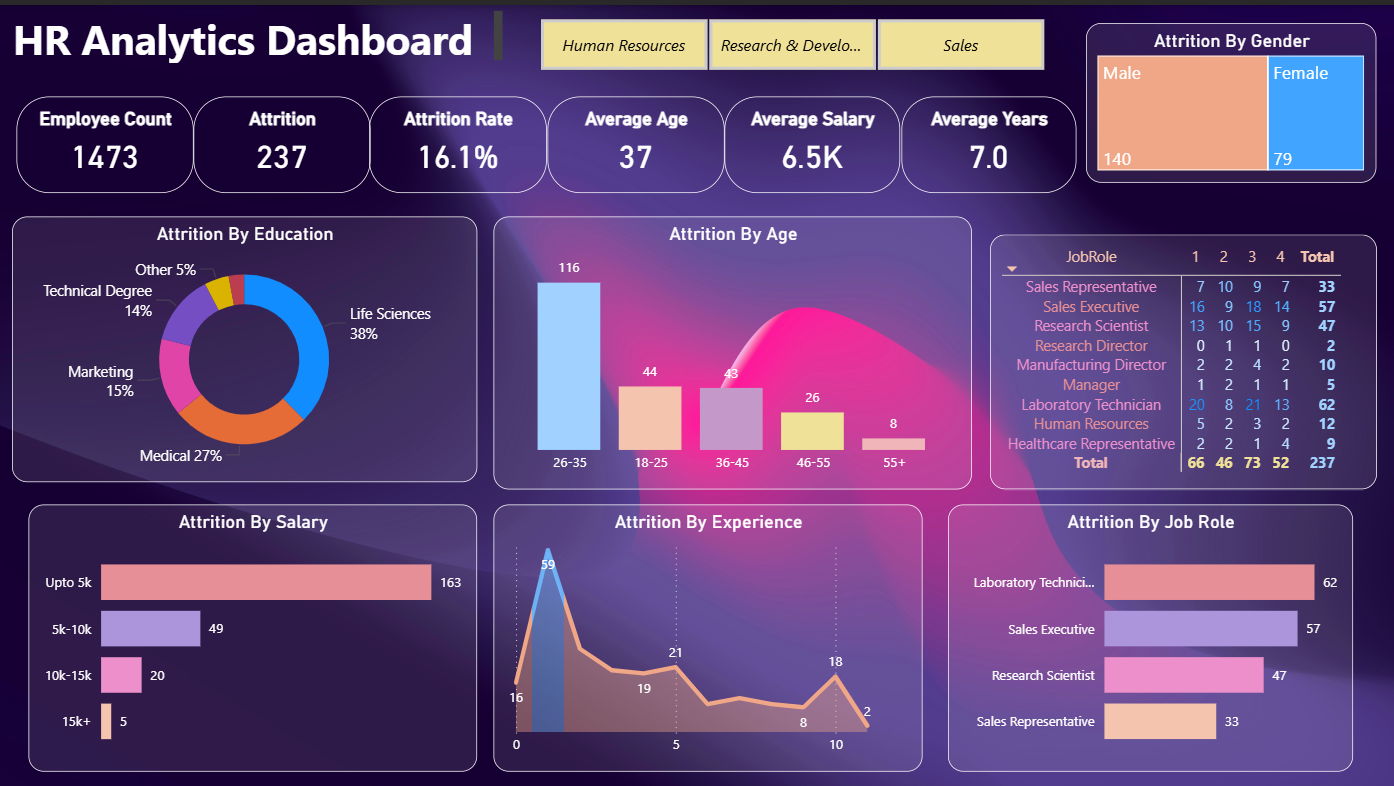

This screenshot's page, from the dashboard's own definition file:
{"tool":"powerbi","page":{"name":"Page 1","canvas":[1280,720],"ordinal":0},"visuals":[{"type":"card","title":"Employee Count","fields":{"Values":["CountNonNull(HR_Analytics.EmpID)"]},"box":[14.7,84.5,162.5,88.8],"z":0},{"type":"card","title":"Average Salary","fields":{"Values":["Avg(HR_Analytics.MonthlyIncome)"]},"box":[665.3,84,161.4,88.9],"z":1000},{"type":"card","title":"Average Age","fields":{"Values":["Avg(HR_Analytics.Age)"]},"box":[502.3,84.5,162.5,88.8],"z":2000},{"type":"card","title":"Attrition Rate","fields":{"Values":["HR_Analytics.AttritionRate"]},"box":[339.2,84,163,88.9],"z":3000},{"type":"card","title":"Attrition","fields":{"Values":["Sum(HR_Analytics.AttritionCount)"]},"box":[177.2,84.5,162.5,88.8],"z":4000},{"type":"card","title":"Average Years","fields":{"Values":["Avg(HR_Analytics.YearsAtCompany)"]},"box":[827.3,84.5,160.6,88.8],"z":5000},{"type":"donutChart","title":"Attrition By Education","fields":{"Category":["HR_Analytics.EducationField"],"Y":["Sum(HR_Analytics.AttritionCount)"]},"box":[11,194.2,427,243.8],"z":6000},{"type":"columnChart","title":"Attrition By Age","fields":{"Category":["HR_Analytics.AgeGroup"],"Y":["Sum(HR_Analytics.AttritionCount)"]},"box":[453.2,194.2,439.4,250.7],"z":7000},{"type":"pivotTable","fields":{"Rows":["HR_Analytics.JobRole"],"Columns":["HR_Analytics.JobSatisfaction"],"Values":["Sum(HR_Analytics.AttritionCount)"]},"box":[909.2,210.8,355.4,234.2],"z":8000},{"type":"barChart","title":"Attrition By Job Role","fields":{"Category":["HR_Analytics.JobRole"],"Y":["Sum(HR_Analytics.AttritionCount)"]},"box":[870.6,458.7,371.9,245.2],"z":9000},{"type":"barChart","title":"Attrition By Salary","fields":{"Category":["HR_Analytics.SalarySlab"],"Y":["Sum(HR_Analytics.AttritionCount)"]},"box":[25.7,458.8,411.9,245.3],"z":10000},{"type":"areaChart","title":"Attrition By Experience","fields":{"Category":["HR_Analytics.YearsAtCompany"],"Y":["Sum(HR_Analytics.AttritionCount)"]},"box":[453.2,458.7,394,245.2],"z":11000},{"type":"treemap","title":"Attrition By Gender","fields":{"Group":["HR_Analytics.Gender"],"Values":["Sum(HR_Analytics.AttritionCount)"]},"box":[997.9,16.5,266.8,146.6],"z":12000},{"type":"slicer","fields":{"Values":["HR_Analytics.Department"]},"box":[466,0,522,72.5],"z":13000},{"type":"textbox","box":[6.6,0,459.4,57.6],"z":14000}]}

Visuals, with their boxes in screenshot pixels (x1, y1, x2, y2), scaled from the page's 1280x720 canvas onto the 1394x786 screenshot:
"Employee Count" card: (left=16, top=92, right=193, bottom=189)
"Average Salary" card: (left=725, top=92, right=900, bottom=189)
"Average Age" card: (left=547, top=92, right=724, bottom=189)
"Attrition Rate" card: (left=369, top=92, right=547, bottom=189)
"Attrition" card: (left=193, top=92, right=370, bottom=189)
"Average Years" card: (left=901, top=92, right=1076, bottom=189)
"Attrition By Education" donutChart: (left=12, top=212, right=477, bottom=478)
"Attrition By Age" columnChart: (left=494, top=212, right=972, bottom=486)
pivotTable - HR_Analytics.JobRole x HR_Analytics.JobSatisfaction: (left=990, top=230, right=1377, bottom=486)
"Attrition By Job Role" barChart: (left=948, top=501, right=1353, bottom=768)
"Attrition By Salary" barChart: (left=28, top=501, right=477, bottom=769)
"Attrition By Experience" areaChart: (left=494, top=501, right=923, bottom=768)
"Attrition By Gender" treemap: (left=1087, top=18, right=1377, bottom=178)
slicer - HR_Analytics.Department: (left=508, top=0, right=1076, bottom=79)
textbox: (left=7, top=0, right=508, bottom=63)
